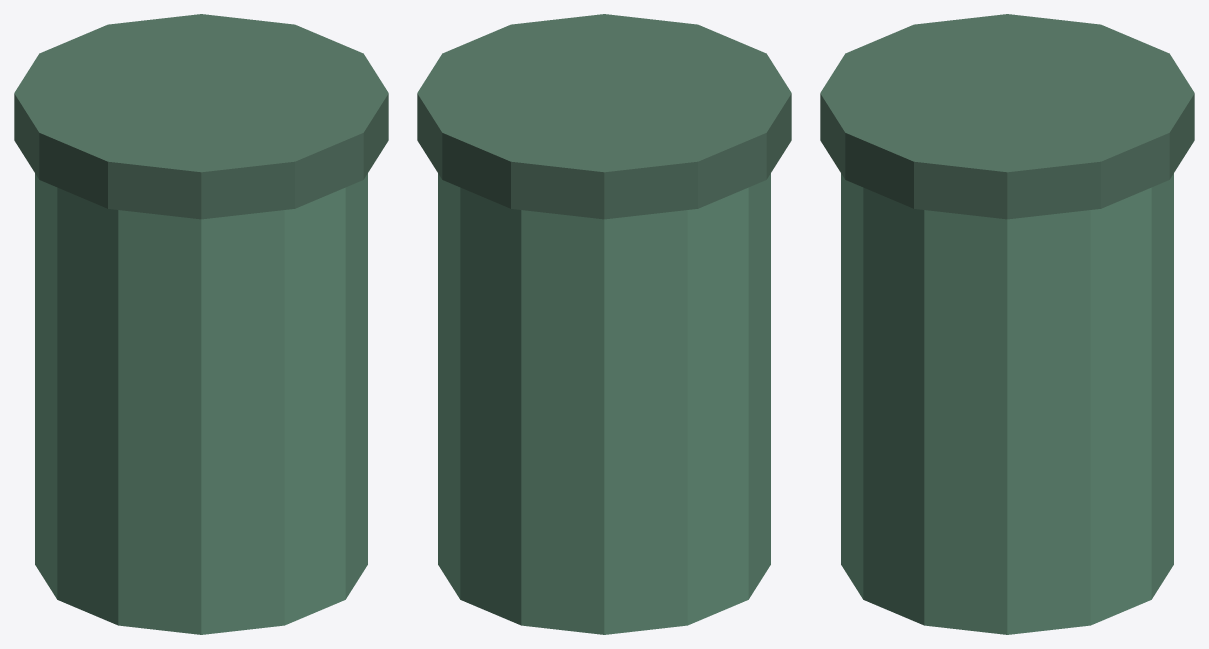
File: trash_bin.glb
The picture shows the model from 3 angles, left to right: view 1: azimuth 30°, elevation 25°; view 2: azimuth 150°, elevation 25°; view 3: azimuth 270°, elevation 25°; orthographic projection.
Visible parts, largest first — view 1: trash_bin; view 2: trash_bin; view 3: trash_bin.
Boxes of the visible parts, <box> form: trash_bin: <box>14,14,388,634</box>; trash_bin: <box>417,14,791,634</box>; trash_bin: <box>820,14,1194,634</box>.
Size of the model in its own units: 0.72 by 1 by 0.72.
